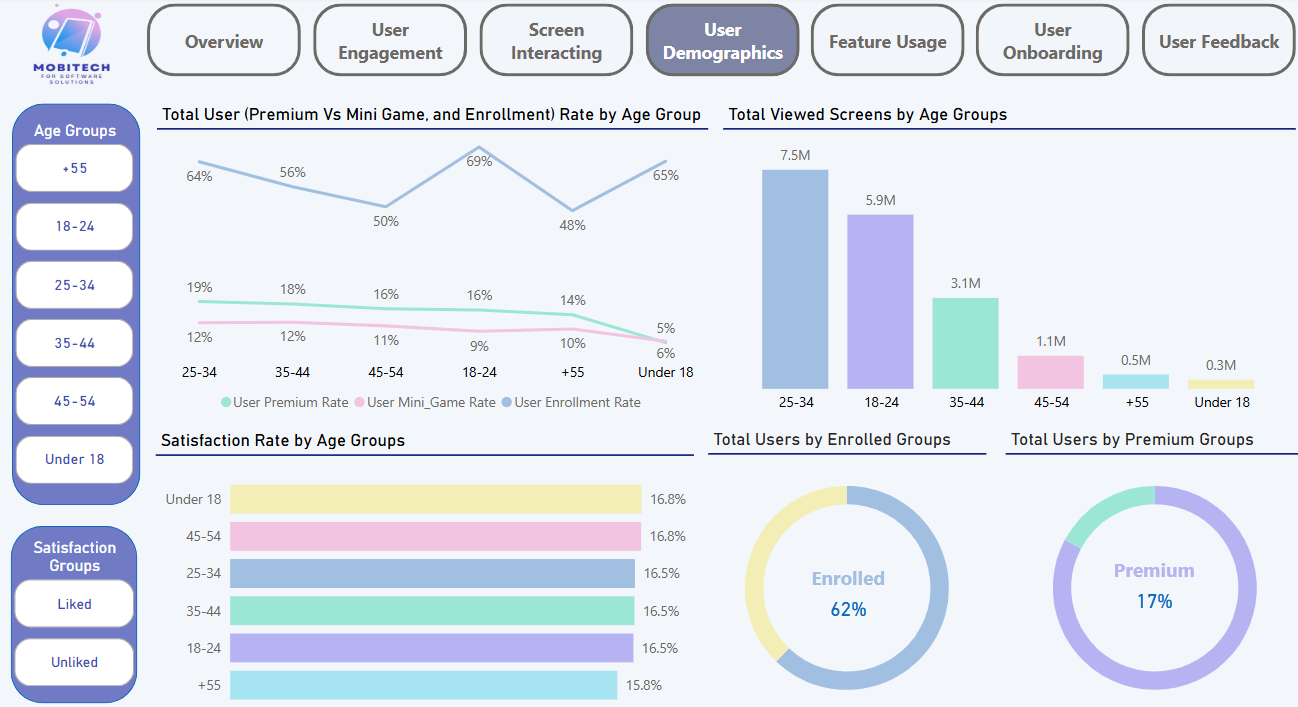

The dashboard page shown, as its layout file describes it:
{"tool":"powerbi","page":{"name":"User Demographics","canvas":[1280,720],"ordinal":6},"visuals":[{"type":"shape","box":[15.7,104.6,125.5,393],"z":0,"group":"g3"},{"type":"lineChart","title":"Total User (Premium Vs Mini Game, and Enrollment) Rate by Age Group","fields":{"Category":["appdata10.age groups"],"Y":["Total.premium feature usage rate","Total.Mini game usage rate","Total.enrollment rate"]},"box":[156.8,104.6,539.4,311.1],"z":0},{"type":"donutChart","fields":{"Y":["Total.Total Users"],"Category":["appdata10.Enrolled Groups"]},"box":[696.2,423.4,271.6,285.6],"z":0,"group":"g4"},{"type":"donutChart","fields":{"Y":["Total.Total Users"],"Category":["appdata10.Premium Groups"]},"box":[987,423.4,292,285.6],"z":0,"group":"g5"},{"type":"group","id":"g1","title":"Group 3","box":[12,519,127.5,173.4],"z":0,"group":"g2"},{"type":"shape","box":[12.7,519,123.7,173.4],"z":0,"group":"g1"},{"type":"clusteredColumnChart","title":"Total Viewed Screens by Age Groups","fields":{"Category":["appdata10.age groups"],"Y":["Total.screens viewed by age"]},"box":[710.3,104.6,559.8,311.1],"z":1000},{"type":"advancedSlicerVisual","fields":{"Values":["appdata10.Age Groups"]},"box":[14,121.3,125.3,362],"z":1000,"group":"g3"},{"type":"advancedSlicerVisual","fields":{"Values":["appdata10.Satisfaction Groups"]},"box":[12,531.1,127.5,149.5],"z":1000,"group":"g1"},{"type":"cardVisual","fields":{"Data":["Total.Premium Percentage %"]},"box":[1052.4,542.7,161.9,66.5],"z":1000,"group":"g5"},{"type":"cardVisual","fields":{"Data":["Total.Enrolled Percentage %"]},"box":[771.4,549.7,122.4,68.7],"z":1000,"group":"g4"},{"type":"barChart","title":"Satisfaction Rate by Age Groups","fields":{"Y":["Total.likehood of liking"],"Category":["appdata10.age groups"]},"box":[155.6,424.6,526.6,284.4],"z":2000},{"type":"group","id":"g2","title":"Group 2","box":[12,519,127.5,173.4],"z":3000},{"type":"group","id":"g3","title":"Group 1","box":[14,104.6,128.8,392.7],"z":4000},{"type":"group","id":"g4","title":"Group 4","box":[696.2,423.4,271.6,285.6],"z":5000},{"type":"group","id":"g5","title":"Group 4","box":[987,423.4,292,285.6],"z":6000},{"type":"actionButton","box":[634.1,7.9,150.6,71.3],"z":7000},{"type":"actionButton","box":[309.1,7.9,150.6,71.3],"z":8000},{"type":"actionButton","box":[471.6,7.9,150.6,71.3],"z":9000},{"type":"actionButton","box":[146.6,7.9,150.6,71.3],"z":10000},{"type":"actionButton","box":[796.5,7.9,150.6,71.3],"z":11000},{"type":"actionButton","box":[957.7,7.9,150.6,71.3],"z":12000},{"type":"actionButton","box":[1120.2,7.9,150.6,71.3],"z":13000},{"type":"image","box":[22,0,101.5,96.6],"z":14000}]}

Visuals, with their boxes on the page's 1280x720 design canvas (x1, y1, x2, y2). These are canvas units, not pixel positions in the 1298x707 screenshot, which may show the page scaled, cropped or inside an application window:
shape: detection(16, 105, 141, 498)
"Total User (Premium Vs Mini Game, and Enrollment) Rate by Age Group" lineChart: detection(157, 105, 696, 416)
donutChart - Total.Total Users x appdata10.Enrolled Groups: detection(696, 423, 968, 709)
donutChart - Total.Total Users x appdata10.Premium Groups: detection(987, 423, 1279, 709)
"Group 3" group: detection(12, 519, 140, 692)
shape: detection(13, 519, 136, 692)
"Total Viewed Screens by Age Groups" clusteredColumnChart: detection(710, 105, 1270, 416)
advancedSlicerVisual - appdata10.Age Groups: detection(14, 121, 139, 483)
advancedSlicerVisual - appdata10.Satisfaction Groups: detection(12, 531, 140, 681)
cardVisual - Total.Premium Percentage %: detection(1052, 543, 1214, 609)
cardVisual - Total.Enrolled Percentage %: detection(771, 550, 894, 618)
"Satisfaction Rate by Age Groups" barChart: detection(156, 425, 682, 709)
"Group 2" group: detection(12, 519, 140, 692)
"Group 1" group: detection(14, 105, 143, 497)
"Group 4" group: detection(696, 423, 968, 709)
"Group 4" group: detection(987, 423, 1279, 709)
actionButton: detection(634, 8, 785, 79)
actionButton: detection(309, 8, 460, 79)
actionButton: detection(472, 8, 622, 79)
actionButton: detection(147, 8, 297, 79)
actionButton: detection(796, 8, 947, 79)
actionButton: detection(958, 8, 1108, 79)
actionButton: detection(1120, 8, 1271, 79)
image: detection(22, 0, 124, 97)
